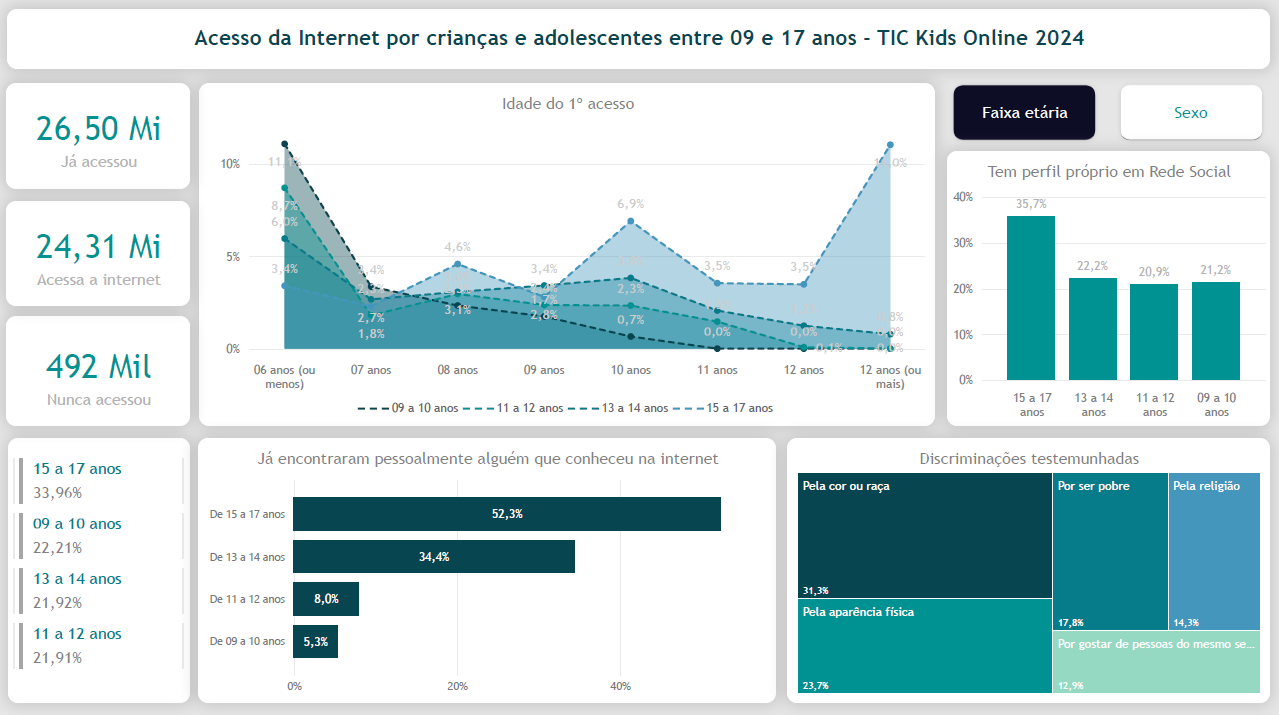

What the dashboard file says about the page in this screenshot:
{"tool":"powerbi","page":{"name":"Resumo","canvas":[1280,720],"ordinal":0},"visuals":[{"type":"lineChart","title":"Idade do 1º acesso","fields":{"Category":["1 Idade 1 acesso.Idade1Acesso"],"Y":["Sum(1 Idade 1 acesso.Quantidade)"],"Series":["1 Idade 1 acesso.Categoria"]},"box":[199.1,84.5,736.4,343.6],"z":0},{"type":"multiRowCard","fields":{"Values":["Sum(1 Ja acessou internet.Quantidade)","1 Ja acessou internet.Categoria"]},"box":[8.2,440,181.8,265.5],"z":1000},{"type":"card","fields":{"Values":["Sum(1 Ja acessou internet.Quantidade)"]},"box":[6.5,318,183.3,110],"z":2000},{"type":"card","fields":{"Values":["Sum(1 Ja acessou internet.Quantidade)"]},"box":[6.5,84.7,183.3,106.7],"z":3000},{"type":"card","fields":{"Values":["Sum(1 Frequencia de uso.Quantidade)"]},"box":[6.5,203,183.3,105],"z":4000},{"type":"advancedSlicerVisual","fields":{"Values":["1 Ja acessou internet.TipoCategoria"]},"box":[946.9,79.8,323.4,68.8],"z":5000},{"type":"textbox","box":[7.1,11.4,1262.9,60],"z":6000},{"type":"clusteredColumnChart","title":"Tem perfil próprio em Rede Social","fields":{"Category":["2a Tem perfil proprio em rede s.Categoria"],"Y":["Sum(2a Tem perfil proprio em rede s.Valor)"]},"box":[947.3,152.7,322.7,275.5],"z":7000},{"type":"clusteredBarChart","title":"Já encontraram pessoalmente alguém que conheceu na internet","fields":{"Y":["Sum(5- Contato pessoalmente com pes.Valor)"],"Category":["5- Contato pessoalmente com pes.Categoria"]},"box":[198.2,440,578.2,265.5],"z":8000},{"type":"treemap","title":"Discriminações testemunhadas","fields":{"Group":["7- Tipos de discriminação teste.Resposta"],"Values":["Sum(7- Tipos de discriminação teste.Valor)"]},"box":[787.3,440,482.7,265.5],"z":9000}]}

Visuals, with their boxes in screenshot pixels (x1, y1, x2, y2), scaled from the page's 1280x720 canvas onto the 1279x715 screenshot:
"Idade do 1º acesso" lineChart: bbox=(199, 84, 935, 425)
multiRowCard - Sum(1 Ja acessou internet.Quantidade) x 1 Ja acessou internet.Categoria: bbox=(8, 437, 190, 701)
card - Sum(1 Ja acessou internet.Quantidade): bbox=(6, 316, 190, 425)
card - Sum(1 Ja acessou internet.Quantidade): bbox=(6, 84, 190, 190)
card - Sum(1 Frequencia de uso.Quantidade): bbox=(6, 202, 190, 306)
advancedSlicerVisual - 1 Ja acessou internet.TipoCategoria: bbox=(946, 79, 1269, 148)
textbox: bbox=(7, 11, 1269, 71)
"Tem perfil próprio em Rede Social" clusteredColumnChart: bbox=(947, 152, 1269, 425)
"Já encontraram pessoalmente alguém que conheceu na internet" clusteredBarChart: bbox=(198, 437, 776, 701)
"Discriminações testemunhadas" treemap: bbox=(787, 437, 1269, 701)
